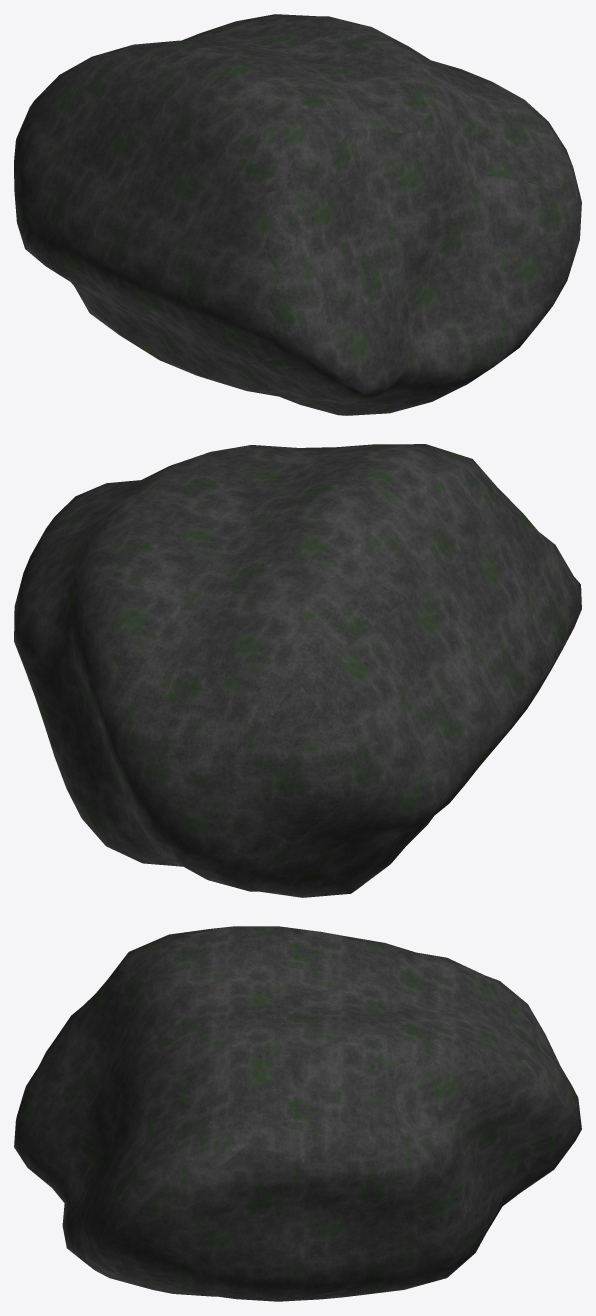
Rendered from rock_basalt.glb.
The picture shows the model from 3 angles, top to bottom: view 1: azimuth 30°, elevation 25°; view 2: azimuth 150°, elevation 25°; view 3: azimuth 270°, elevation 25°; orthographic projection. The views are drawn at different scales.
Parts seen in each view (by area): view 1: BasaltBoulder; view 2: BasaltBoulder; view 3: BasaltBoulder.
Part boxes in pixels (x1,y1,x2,y2): BasaltBoulder: (14, 14, 581, 415); BasaltBoulder: (14, 444, 581, 897); BasaltBoulder: (14, 926, 581, 1301).
Size of the model in its own units: 1.17 by 0.8771 by 1.4.
1 material, 1 textured.
